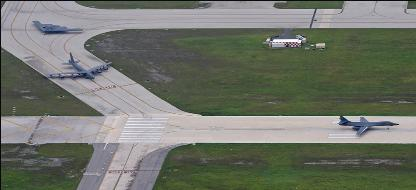AV8B: (337, 114, 399, 134)
B1: (32, 19, 82, 33)
B2: (44, 50, 112, 78)
